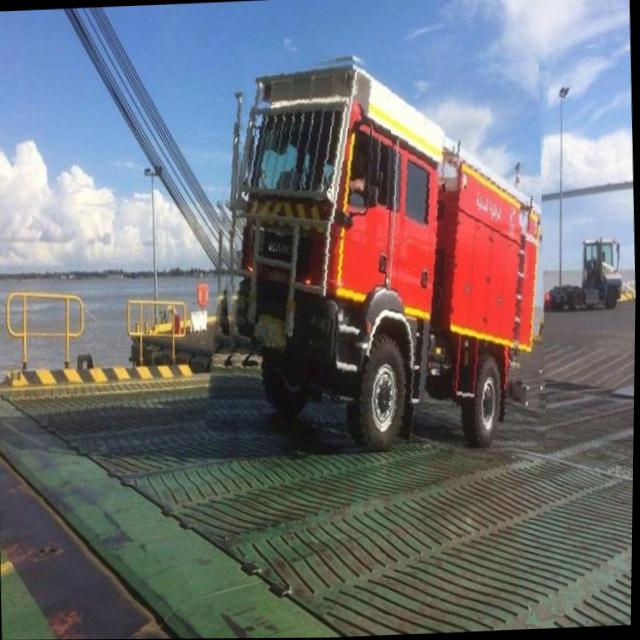Protection Civile: (202, 44, 552, 459)
